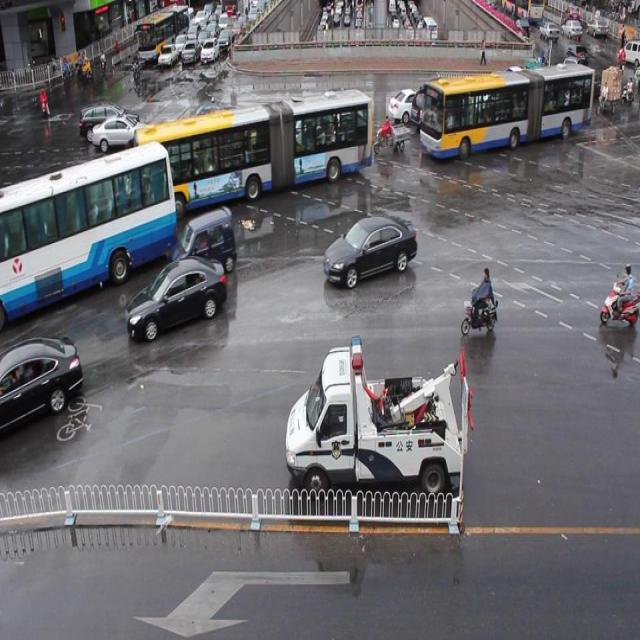bus: (286, 333, 474, 494)
car: (1, 336, 82, 432), (130, 262, 227, 340), (323, 216, 416, 281), (171, 211, 236, 274), (196, 113, 251, 158), (413, 86, 464, 131), (92, 116, 151, 153), (80, 103, 138, 139), (221, 123, 261, 173), (183, 98, 236, 135), (388, 85, 434, 126), (314, 107, 360, 147), (323, 85, 368, 121), (424, 75, 472, 108), (314, 97, 363, 129), (471, 83, 509, 116), (496, 65, 532, 93), (500, 74, 532, 105)
van: (1, 146, 174, 322), (138, 89, 373, 213), (422, 66, 591, 159)
